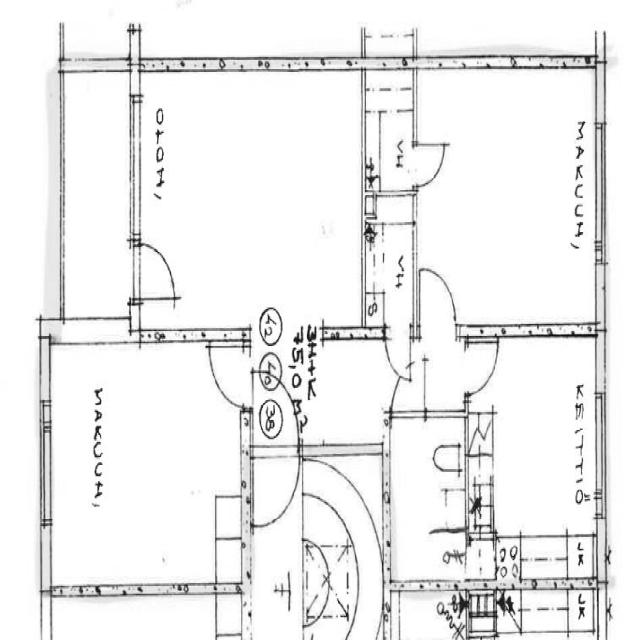door: (301, 465, 354, 623), (248, 445, 301, 531), (126, 232, 182, 310), (206, 332, 254, 415), (414, 262, 462, 328), (386, 345, 426, 422), (459, 330, 502, 400), (407, 129, 452, 190), (382, 326, 414, 386)
window: (123, 82, 149, 250)
zone: (41, 338, 248, 602), (414, 63, 600, 330), (465, 333, 602, 578), (54, 55, 137, 342), (388, 416, 470, 586), (362, 186, 417, 335)
